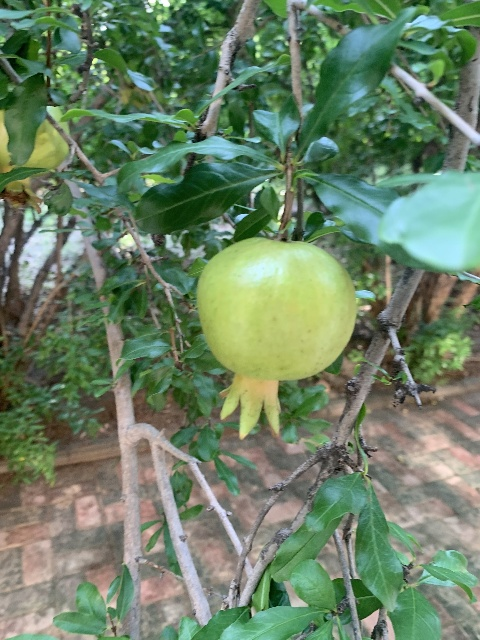mid-growth: (195, 237, 357, 443), (0, 105, 69, 214)
